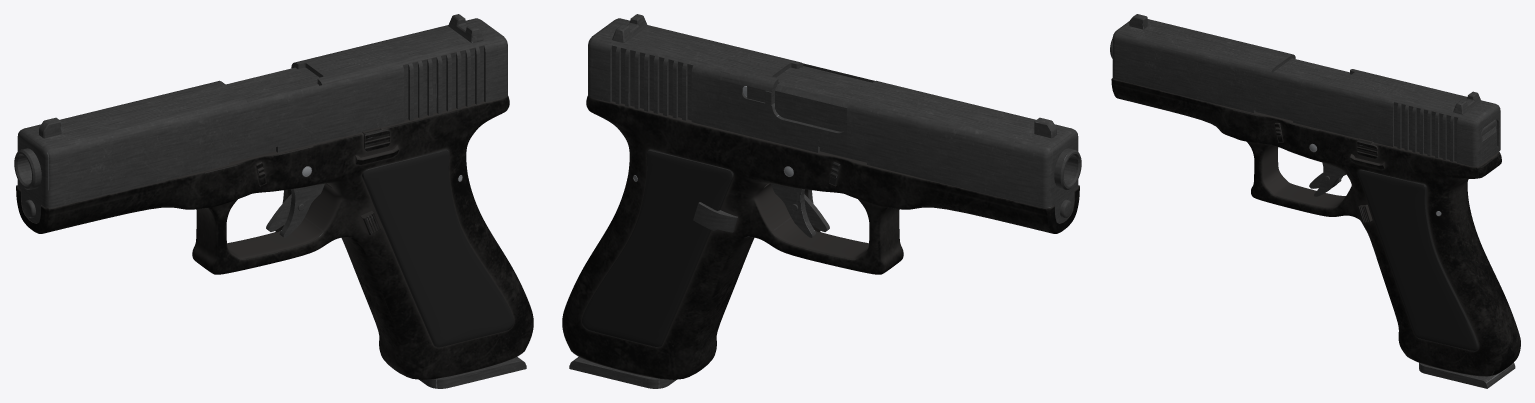
The model's file is pistol_9mm.glb.
The picture shows the model from 3 angles, left to right: view 1: azimuth 30°, elevation 25°; view 2: azimuth 150°, elevation 25°; view 3: azimuth 330°, elevation 25°; orthographic projection. The views are drawn at different scales.
Parts seen in each view (by area): view 1: Cube.002, Cube.003; view 2: Cube.002, Cube.003; view 3: Cube.002, Cube.003.
Part boxes in pixels (box(x1,y1,x2,y2)): Cube.002: box(14, 14, 533, 379); Cube.003: box(419, 357, 526, 388); Cube.002: box(562, 14, 1081, 379); Cube.003: box(569, 357, 676, 388); Cube.002: box(1110, 14, 1520, 376); Cube.003: box(1419, 362, 1515, 388).
Bounding box in the file's own units: 12.15 × 8 × 1.69.
1 material, 1 textured.
